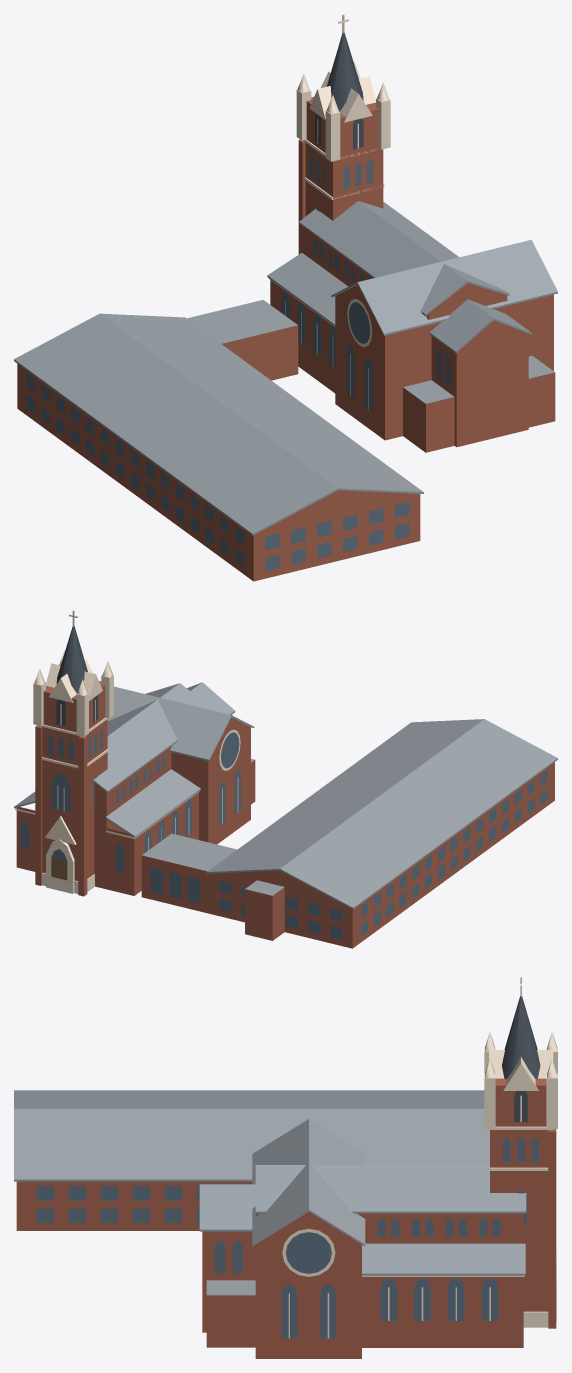
Rendered from cola-st-peters-church.glb.
3 renders of one model, top to bottom at view 1: azimuth 30°, elevation 25°; view 2: azimuth 150°, elevation 25°; view 3: azimuth 270°, elevation 25°, orthographic. The views are drawn at different scales.
Parts seen in each view (by area): view 1: Saint Peter's Catholic Church; view 2: Saint Peter's Catholic Church; view 3: Saint Peter's Catholic Church.
Boxes of the visible parts, x1=… form: Saint Peter's Catholic Church: x1=14, y1=14, x2=557, y2=581; Saint Peter's Catholic Church: x1=14, y1=610, x2=557, y2=948; Saint Peter's Catholic Church: x1=14, y1=977, x2=557, y2=1358.
Bounding box in the file's own units: 57.95 × 41.8 × 61.25.
